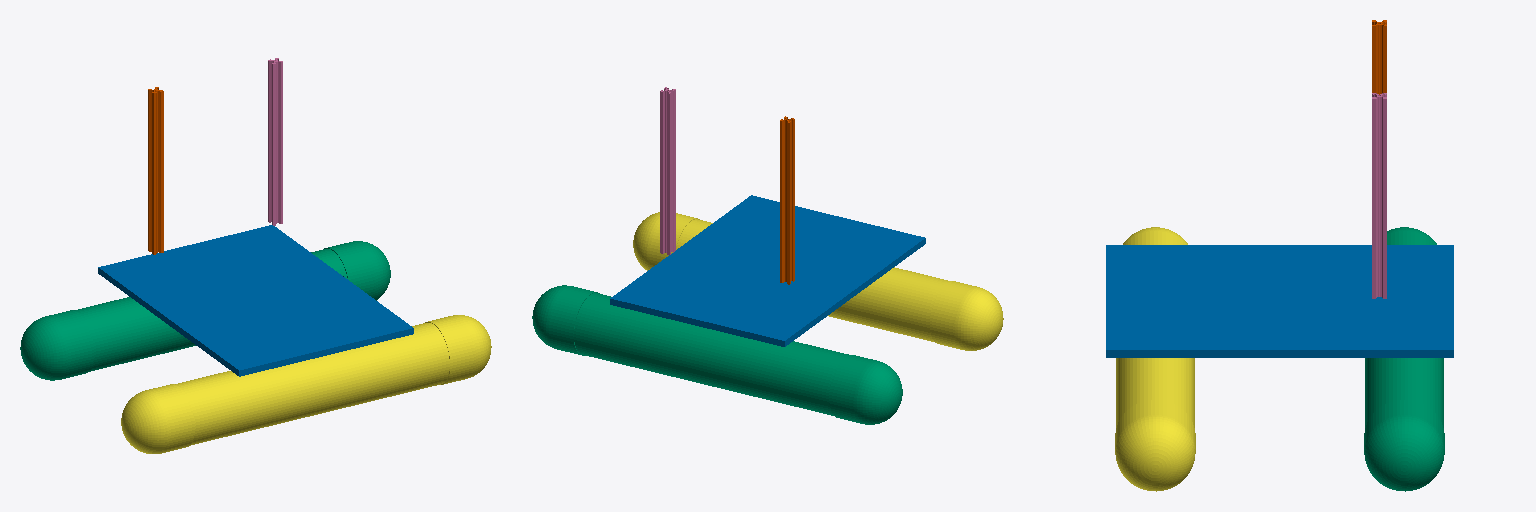
URDF robot description (asv_station_keeping_diag):
<?xml version='1.0' encoding='utf-8'?>
<robot name="asv_station_keeping_diag">
  <!-- Mesh-loading test only. Mounting poses are estimates, not Fusion occurrence transforms. 00_base has no visuals. -->
  <link name="base_footprint" />
  <link name="base_link">
    <inertial>
      <origin xyz="0 0 0" rpy="0 0 0" />
      <mass value="0.1" />
      <inertia ixx="0.0001" ixy="0" ixz="0" iyy="0.0001" iyz="0" izz="0.0001" />
    </inertial>
  </link>
  <link name="hull_left">
    <inertial>
      <origin xyz="0.0017543 -0.0000047 -0.0000010" rpy="0 0 0" />
      <mass value="8.7513272838" />
      <inertia ixx="0.0159438897" ixy="0" ixz="0" iyy="0.7485544942" iyz="0" izz="0.7485544942" />
    </inertial>
    <visual name="hull_left_visual">
      <origin xyz="-0.971730 0.357754 -1.641617" rpy="0 0 -1.57079632679" />
      <geometry>
        <mesh filename="package://asv_station_keeping/meshes/hull.stl" scale="0.001 0.001 0.001" />
      </geometry>
    </visual>
    <collision name="hull_left_collision">
      <geometry>
        <box size="0.724805 0.112973 0.112998" />
      </geometry>
    </collision>
  </link>
  <link name="hull_right">
    <inertial>
      <origin xyz="0.0017543 -0.0000047 -0.0000010" rpy="0 0 0" />
      <mass value="8.7513272838" />
      <inertia ixx="0.0159438897" ixy="0" ixz="0" iyy="0.7485544942" iyz="0" izz="0.7485544942" />
    </inertial>
    <visual name="hull_right_visual">
      <origin xyz="-0.971730 0.357754 -1.641617" rpy="0 0 -1.57079632679" />
      <geometry>
        <mesh filename="package://asv_station_keeping/meshes/hull.stl" scale="0.001 0.001 0.001" />
      </geometry>
    </visual>
    <collision name="hull_right_collision">
      <geometry>
        <box size="0.724805 0.112973 0.112998" />
      </geometry>
    </collision>
  </link>
  <link name="base_deck">
    <inertial>
      <origin xyz="0 0 0" rpy="0 0 0" />
      <mass value="16.1553" />
      <inertia ixx="0.3234344911" ixy="0" ixz="0" iyy="0.1651125511" iyz="0" izz="0.4881593150" />
    </inertial>
    <visual name="base_deck_visual">
      <origin xyz="-0.142254 -0.216347 -0.006000" rpy="1.57079632679 0 0" />
      <geometry>
        <mesh filename="package://asv_station_keeping/meshes/base_deck.stl" scale="0.001 0.001 0.001" />
      </geometry>
    </visual>
    <collision name="base_deck_collision">
      <geometry>
        <box size="0.350 0.490 0.012" />
      </geometry>
    </collision>
  </link>
  <link name="frame1_left">
    <inertial>
      <origin xyz="0 0 0" />
      <mass value="0.41469714" />
      <inertia ixx="0.00333785" ixy="0" ixz="0" iyy="0.00333785" iyz="0" izz="0.0000336422" />
    </inertial>
    <visual>
      <geometry>
        <mesh filename="package://asv_station_keeping/meshes/frame1.stl" scale="0.001 0.001 0.001" />
      </geometry>
    </visual>
    <collision>
      <geometry>
        <cylinder radius="0.010" length="0.310" />
      </geometry>
    </collision>
  </link>
  <link name="frame1_right">
    <inertial>
      <origin xyz="0 0 0" />
      <mass value="0.41469714" />
      <inertia ixx="0.00333785" ixy="0" ixz="0" iyy="0.00333785" iyz="0" izz="0.0000336422" />
    </inertial>
    <visual>
      <geometry>
        <mesh filename="package://asv_station_keeping/meshes/frame1.stl" scale="0.001 0.001 0.001" />
      </geometry>
    </visual>
    <collision>
      <geometry>
        <cylinder radius="0.010" length="0.310" />
      </geometry>
    </collision>
  </link>
  <link name="frame2_left">
    <inertial>
      <origin xyz="0 0 0" />
      <mass value="0.66886635" />
      <inertia ixx="0.01396185" ixy="0" ixz="0" iyy="0.01396185" iyz="0" izz="0.000054262" />
    </inertial>
    <visual>
      <geometry>
        <mesh filename="package://asv_station_keeping/meshes/frame2.stl" scale="0.001 0.001 0.001" />
      </geometry>
    </visual>
    <collision>
      <geometry>
        <cylinder radius="0.010" length="0.500" />
      </geometry>
    </collision>
  </link>
  <joint name="base_footprint_to_base_link" type="fixed">
    <parent link="base_footprint" />
    <child link="base_link" />
    <origin xyz="0 0 0" rpy="0 0 0" />
  </joint>
  <joint name="base_to_hull_left" type="fixed">
    <parent link="base_link" />
    <child link="hull_left" />
    <origin xyz="0 0.175 0.055" rpy="0 0 0" />
  </joint>
  <joint name="base_to_hull_right" type="fixed">
    <parent link="base_link" />
    <child link="hull_right" />
    <origin xyz="0 -0.175 0.055" rpy="0 0 0" />
  </joint>
  <joint name="base_to_base_deck" type="fixed">
    <parent link="base_link" />
    <child link="base_deck" />
    <origin xyz="0 0 0.145" rpy="0 0 0" />
  </joint>
  <joint name="deck_to_frame1_left" type="fixed">
    <parent link="base_deck" />
    <child link="frame1_left" />
    <origin xyz="-0.12 0.14 0.22" />
  </joint>
  <joint name="deck_to_frame1_right" type="fixed">
    <parent link="base_deck" />
    <child link="frame1_right" />
    <origin xyz="0.12 0.14 0.22" />
  </joint>
  <joint name="deck_to_frame2_left" type="fixed">
    <parent link="base_deck" />
    <child link="frame2_left" />
    <origin xyz="-0.12 -0.14 0.28" />
  </joint>
</robot>

--- What the picture shows (computed from the rendered views, not written in the file) ---
The picture shows the robot from 3 angles, left to right: view 1: azimuth 30°, elevation 25°; view 2: azimuth 150°, elevation 25°; view 3: azimuth 270°, elevation 25°; orthographic projection.
Robot: asv_station_keeping_diag — 8 links, 7 joints (7 fixed); root link base_footprint; default pose: all joints at 0.
Links seen in each view (by area): view 1: base_deck, hull_right, hull_left, frame1_left, frame1_right; view 2: base_deck, hull_left, hull_right, frame1_right, frame1_left; view 3: base_deck, hull_right, hull_left, frame1_right, frame1_left.
Link boxes in pixels (x1,y1,x2,y2): base_deck: [98, 225, 413, 376]; hull_right: [121, 315, 491, 453]; hull_left: [20, 241, 390, 380]; frame1_left: [148, 87, 163, 254]; frame1_right: [268, 58, 282, 225]; base_deck: [610, 195, 925, 346]; hull_left: [532, 285, 902, 424]; hull_right: [633, 212, 1003, 350]; frame1_right: [660, 87, 675, 254]; frame1_left: [780, 116, 794, 284]; base_deck: [1106, 245, 1453, 357]; hull_right: [1115, 227, 1195, 491]; hull_left: [1364, 227, 1444, 491]; frame1_right: [1372, 93, 1386, 298]; frame1_left: [1372, 20, 1386, 94].
Size in the robot's own frame: 0.7248 by 0.49 by 0.5215 metres.
5 mesh visuals loaded from 4 distinct referenced files (3 binary STL); not drawn: 1 (reference not matched to a file when rendering).
